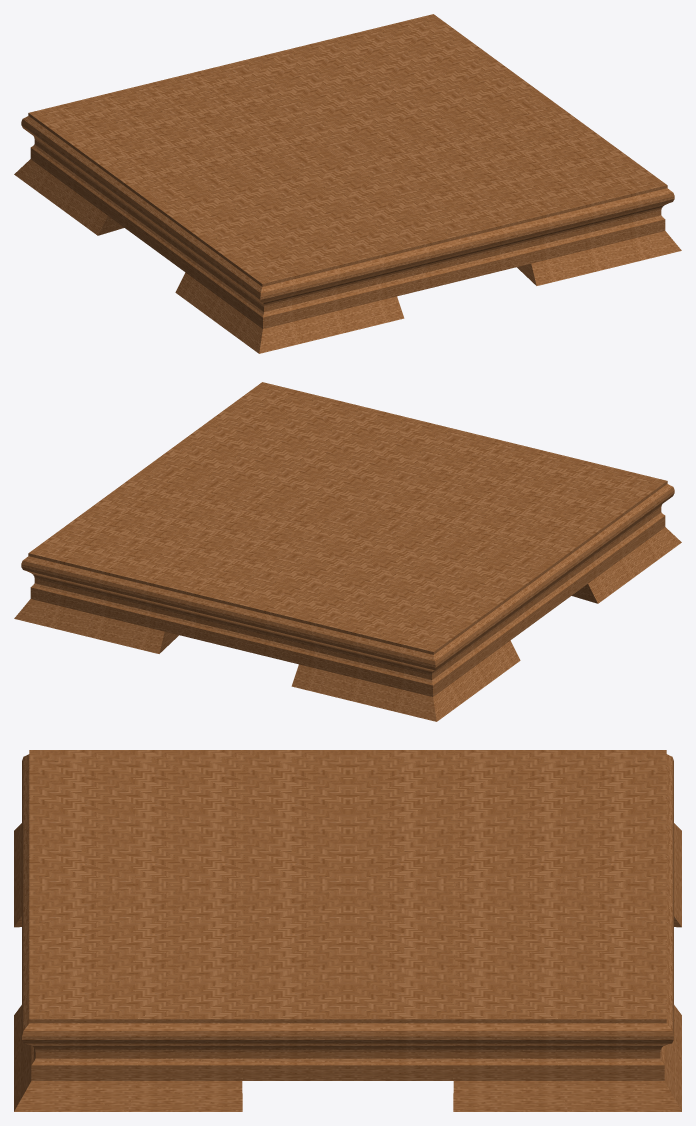
File: Board.glb
The picture shows the model from 3 angles, top to bottom: view 1: azimuth 30°, elevation 25°; view 2: azimuth 150°, elevation 25°; view 3: azimuth 270°, elevation 25°; orthographic projection. The views are drawn at different scales.
Parts seen in each view (by area): view 1: Board; view 2: Board; view 3: Board.
Part boxes in pixels (x1,y1,x2,y2): Board: [14, 14, 681, 353]; Board: [14, 382, 681, 721]; Board: [14, 750, 681, 1111].
Bounding box in the file's own units: 13.32 × 1.91 × 13.38.
Materials: 1 (1 with a texture image).
